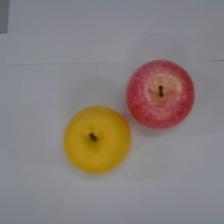red: (126, 58, 197, 129)
yellow: (63, 104, 133, 178)
